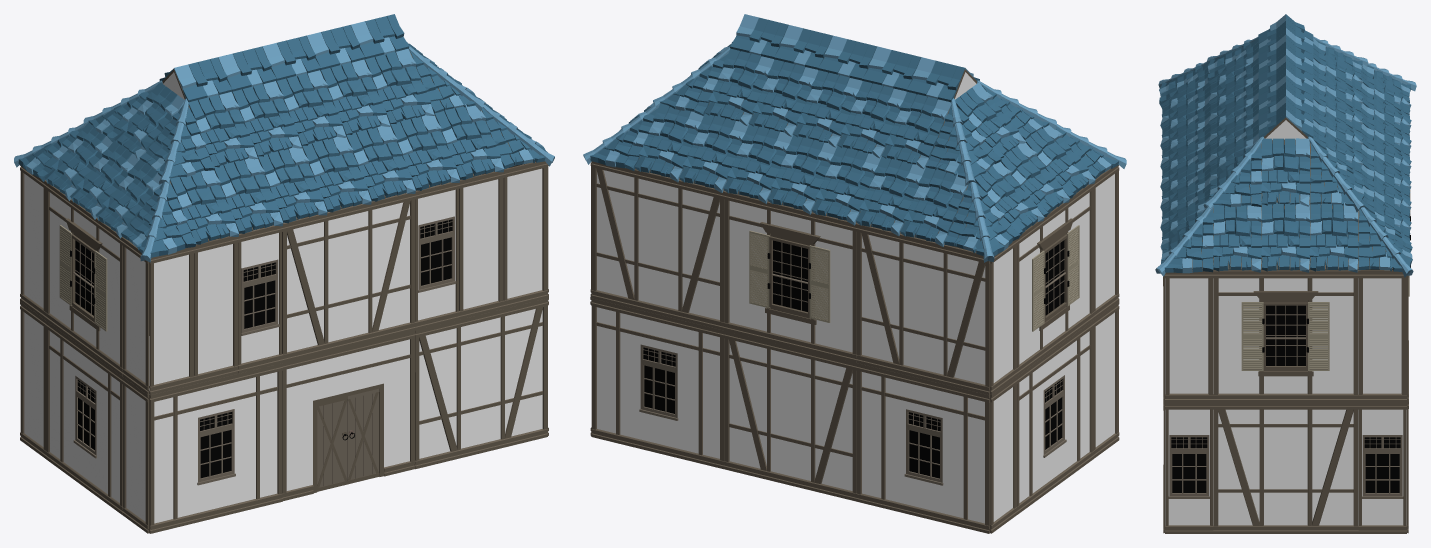
File: House_13_full.glb
3 views of the same model, side by side, from view 1: azimuth 30°, elevation 25°; view 2: azimuth 150°, elevation 25°; view 3: azimuth 270°, elevation 25° (orthographic). The views are drawn at different scales.
Parts seen in each view (by area): view 1: WALL_02_7, WINDOW_03_2, WALL_02_2, DOOR_03_2, WINDOW_07_5, WINDOW_03_3, WALL_03_12, WALL_03_11, WALL_03_10, WALL_03_9, WINDOW_04_6, WINDOW_04_5 (+31 smaller); view 2: WINDOW_03_5, WINDOW_07_4, WALL_02_5, WINDOW_03_4, WALL_02_4, WALL_02_6, WINDOW_07_5, WINDOW_03_3, WALL_03_4, WALL_03_5, WALL_03_6, WALL_03_3 (+27 smaller); view 3: WINDOW_07_3, WALL_02_3, WALL_03_8, WINDOW_04_3, WINDOW_04_4, WALL_03_7, ROOF_base_33, ROOF_base_34, ROOF_base_17, ROOF_base_16, ROOF_corner_out_5, ROOF_corner_out_9 (+42 smaller).
Part boxes in pixels (left/top/right/bottom): WALL_02_7: left=282, top=193, right=415, bottom=362; WINDOW_03_2: left=149, top=363, right=282, bottom=533; WALL_02_2: left=414, top=298, right=548, bottom=469; DOOR_03_2: left=282, top=330, right=415, bottom=500; WINDOW_07_5: left=45, top=181, right=123, bottom=375; WINDOW_03_3: left=45, top=320, right=123, bottom=514; WALL_03_12: left=149, top=247, right=194, bottom=394; WALL_03_11: left=194, top=236, right=238, bottom=384; WALL_03_10: left=459, top=171, right=503, bottom=319; WALL_03_9: left=503, top=161, right=548, bottom=308; WINDOW_04_6: left=415, top=181, right=459, bottom=330; WINDOW_04_5: left=238, top=225, right=282, bottom=373; WINDOW_03_5: left=591, top=298, right=724, bottom=469; WINDOW_07_4: left=724, top=191, right=857, bottom=362; WALL_02_5: left=856, top=223, right=989, bottom=394; WINDOW_03_4: left=856, top=363, right=989, bottom=533; WALL_02_4: left=724, top=330, right=856, bottom=501; WALL_02_6: left=591, top=161, right=724, bottom=330; WINDOW_07_5: left=1016, top=183, right=1093, bottom=375; WINDOW_03_3: left=1016, top=320, right=1093, bottom=514; WALL_03_4: left=990, top=376, right=1017, bottom=533; WALL_03_5: left=990, top=239, right=1017, bottom=394; WALL_03_6: left=1093, top=165, right=1119, bottom=319; WALL_03_3: left=1093, top=302, right=1119, bottom=458; WINDOW_07_3: left=1213, top=270, right=1358, bottom=402; WALL_02_3: left=1213, top=402, right=1358, bottom=533; WALL_03_8: left=1358, top=270, right=1406, bottom=402; WINDOW_04_3: left=1165, top=402, right=1213, bottom=533; WINDOW_04_4: left=1358, top=402, right=1406, bottom=533; WALL_03_7: left=1165, top=270, right=1213, bottom=402; ROOF_base_33: left=1261, top=202, right=1310, bottom=272; ROOF_base_34: left=1261, top=138, right=1310, bottom=206; ROOF_base_17: left=1309, top=202, right=1358, bottom=272; ROOF_base_16: left=1213, top=203, right=1261, bottom=272; ROOF_corner_out_5: left=1155, top=201, right=1215, bottom=276; ROOF_corner_out_9: left=1358, top=207, right=1413, bottom=277.
Bounding box in the file's own units: 9.41 × 8.59 × 5.41.
1 material, 1 textured.
